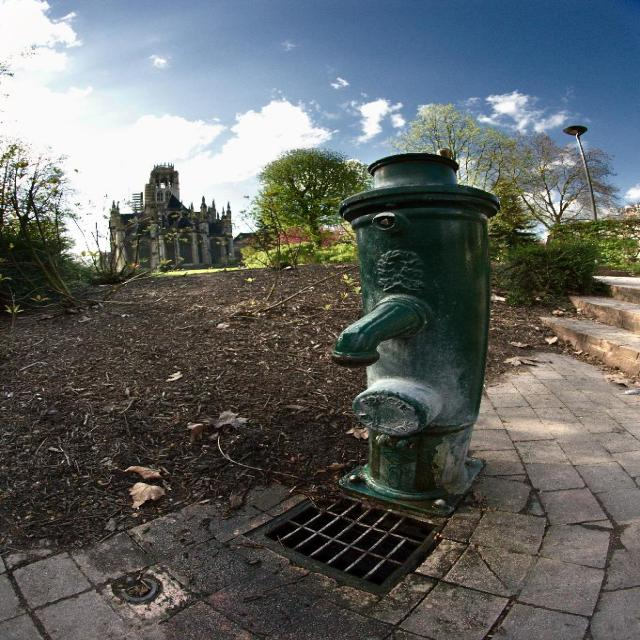fire_hydrant: (329, 150, 502, 519)
